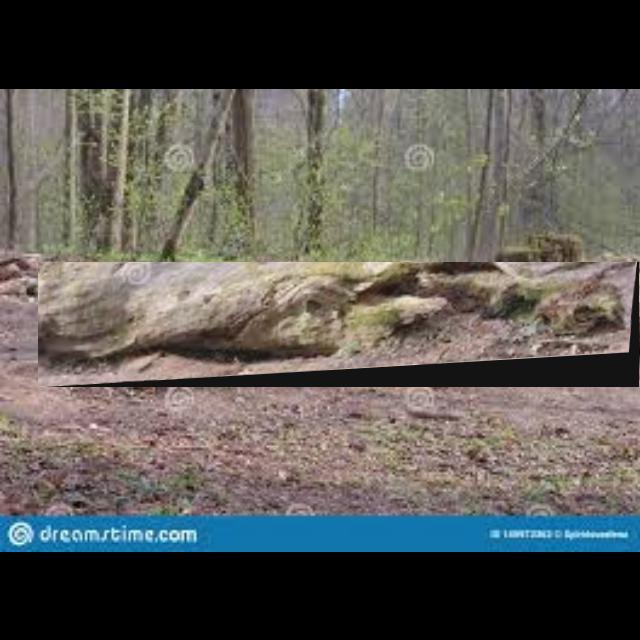fallen_tree: (38, 262, 640, 388)
